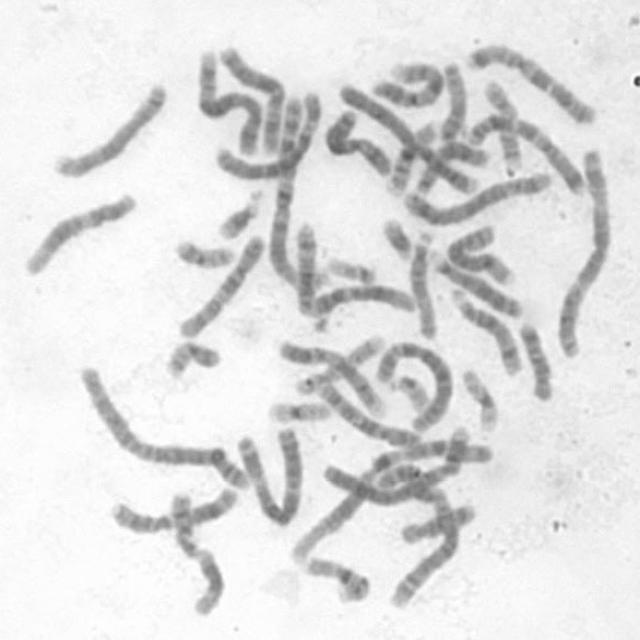A1: (285, 424, 490, 566), (263, 88, 332, 300)
A2: (71, 358, 252, 495), (366, 452, 463, 609)
A3: (549, 141, 615, 359), (231, 420, 306, 528)
B4: (333, 76, 485, 197), (319, 425, 480, 507)
B5: (401, 166, 554, 226), (191, 42, 268, 156)
C10: (174, 228, 268, 340), (307, 372, 424, 448)
C11: (165, 484, 228, 616), (105, 480, 242, 535)
C12: (16, 184, 140, 278), (302, 277, 418, 318)
C6: (208, 86, 326, 181), (372, 335, 456, 433)
C7: (461, 37, 598, 126), (462, 107, 590, 196)
C8: (47, 77, 168, 180), (443, 220, 518, 288)
C9: (271, 332, 390, 418), (369, 56, 446, 110)
D13: (426, 250, 525, 320), (408, 138, 489, 197)
D14: (445, 283, 524, 377), (290, 215, 324, 316)
D15: (406, 226, 439, 341), (434, 56, 472, 143)
E16: (384, 116, 442, 197), (299, 550, 374, 606)
E17: (288, 329, 388, 399), (478, 73, 526, 170)
E18: (394, 497, 478, 547), (513, 315, 556, 403)
F19: (458, 363, 501, 434), (262, 394, 333, 425)
F20: (159, 334, 223, 380), (170, 232, 238, 270)
G21: (212, 183, 264, 240), (377, 211, 416, 263)
G22: (384, 369, 432, 413), (322, 251, 378, 285)
X: (212, 42, 289, 156), (320, 104, 396, 179)
